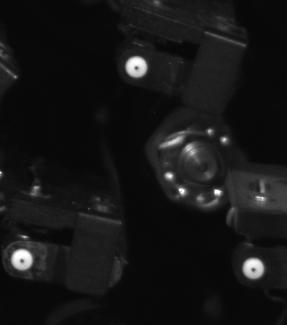fiber: (234, 251, 272, 284), (7, 243, 39, 277), (119, 53, 155, 82)
